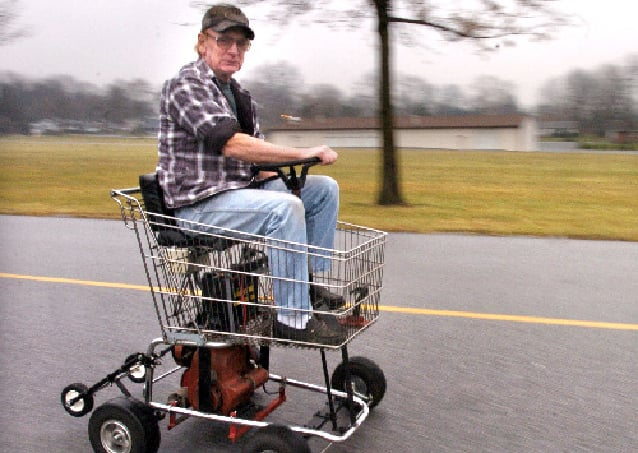Person: (158, 9, 347, 323)
shopping_cart: (73, 189, 397, 453)
